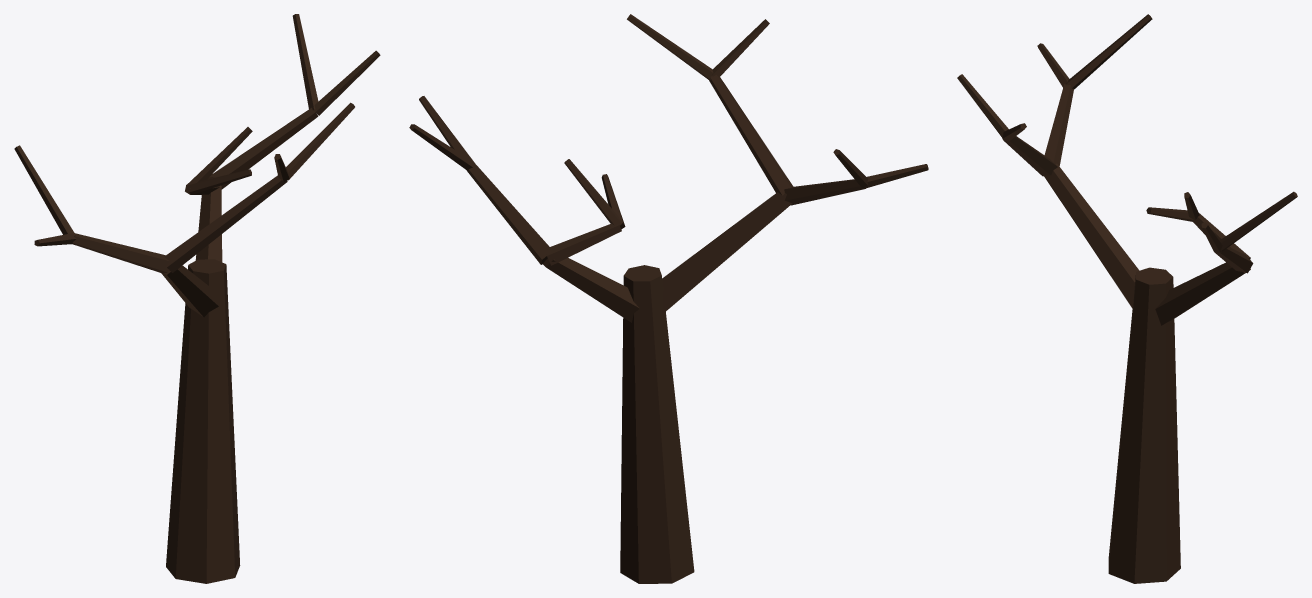
The model's file is tree.glb.
3 views of the same model, side by side, from view 1: azimuth 30°, elevation 25°; view 2: azimuth 150°, elevation 25°; view 3: azimuth 270°, elevation 25° (orthographic).
Parts seen in each view (by area): view 1: tree; view 2: tree; view 3: tree.
Boxes of the visible parts, x1,y1,x2,y2 form: tree: [14, 14, 380, 583]; tree: [409, 14, 928, 583]; tree: [957, 14, 1297, 583].
Bounding box in the file's own units: 4.52 × 4.96 × 3.13.
